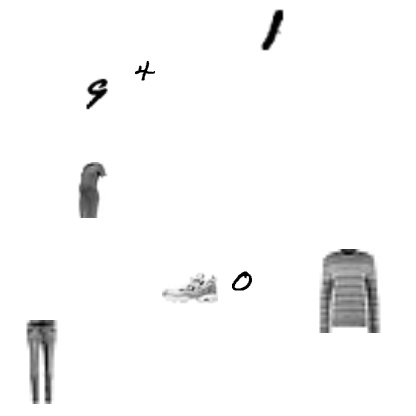0: (228, 267, 256, 295)
1: (245, 0, 301, 56)
4: (130, 57, 158, 85)
9: (76, 70, 118, 112)
Dress: (65, 162, 121, 218)
Pullover: (308, 249, 392, 333)
Sneaker: (162, 259, 218, 315)
Trouser: (0, 320, 84, 404)
